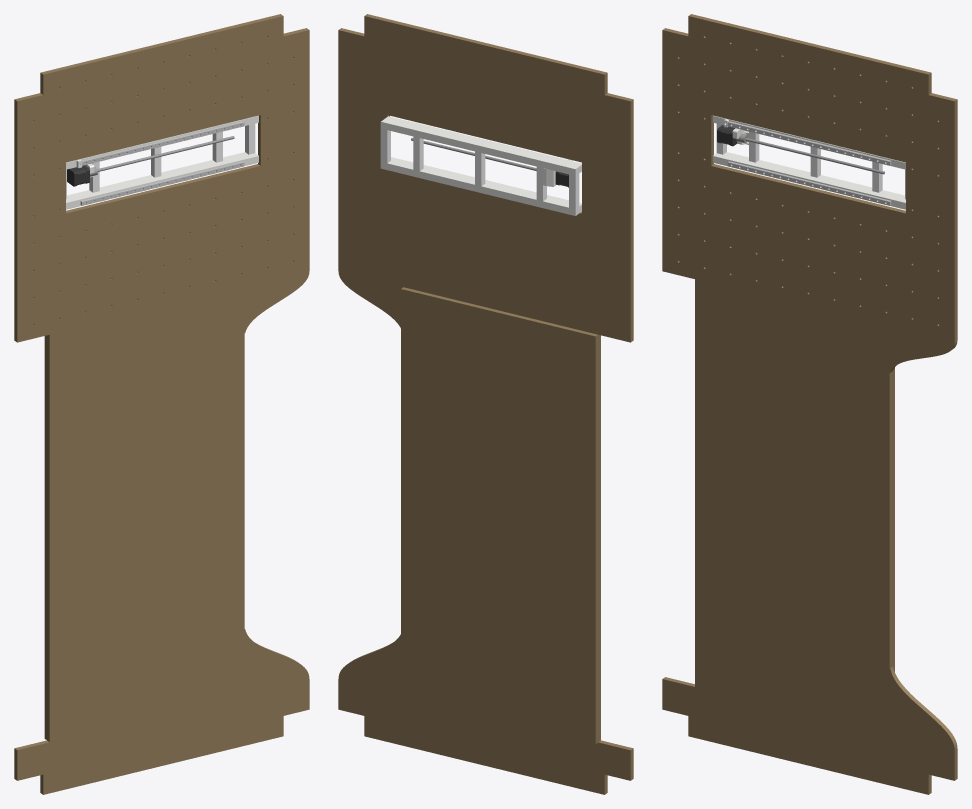
3 renders of one model, left to right at view 1: azimuth 30°, elevation 25°; view 2: azimuth 150°, elevation 25°; view 3: azimuth 330°, elevation 25°, orthographic.
Parts seen in each view (by area): view 1: Link_0; view 2: Link_0; view 3: Link_0.
Part boxes in pixels (box(x1,y1,x2,y2)): Link_0: box(14, 14, 309, 794); Link_0: box(338, 14, 633, 794); Link_0: box(662, 14, 957, 794).
Bounding box in the file's own units: 0.9 × 2.12 × 0.056.
